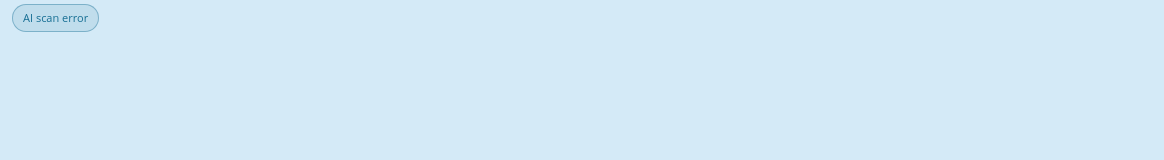
AI scan error button (UI) › omits the command block when the fix is app-side only (quota)
This screenshot has width=1164, height=160.
Click the button "AI scan error".
click(56, 18)  # box [12,4,99,32]
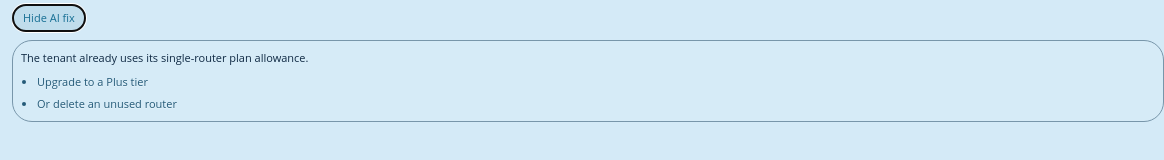
Check: the element with test id "ai-diagnosis" is shown, box [12,40,1163,122]
Check: the list with test id "ai-steps" shows "Plus", box [37,74,148,89]
